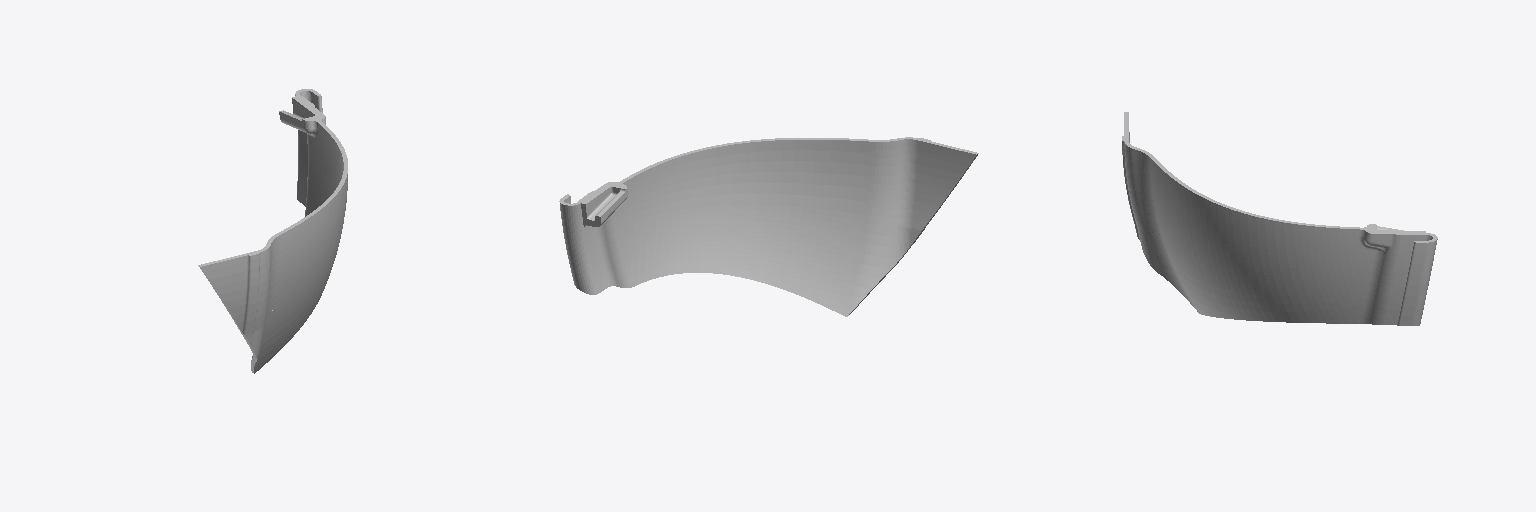
The model's file is Body12.obj.
3 renders of one model, left to right at view 1: azimuth 30°, elevation 25°; view 2: azimuth 150°, elevation 25°; view 3: azimuth 270°, elevation 25°, orthographic.
Parts seen in each view (by area): view 1: Body12; view 2: Body12; view 3: Body12.
Part boxes in pixels (left/top/right/bottom): Body12: left=198, top=89, right=347, bottom=373; Body12: left=559, top=137, right=978, bottom=316; Body12: left=1122, top=112, right=1437, bottom=325.
Bounding box in the file's own units: 1.33 × 0.7501 × 1.37.